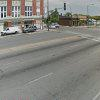Car: (18, 21, 43, 34)
